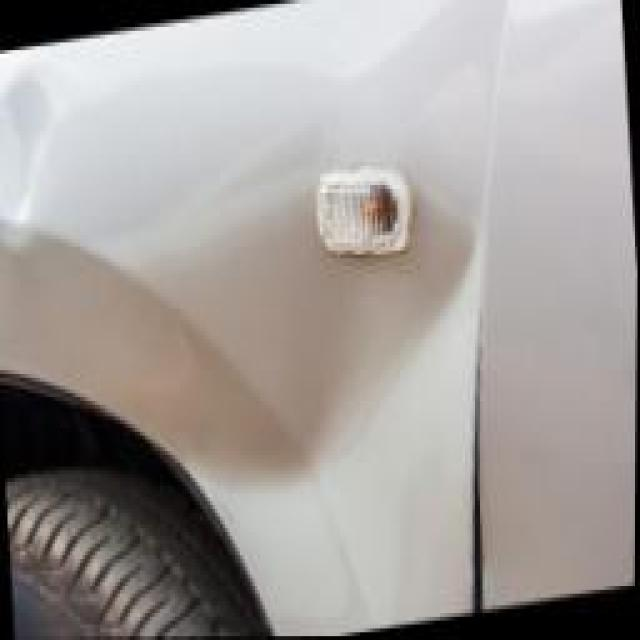Fender: (140, 96, 486, 578)
